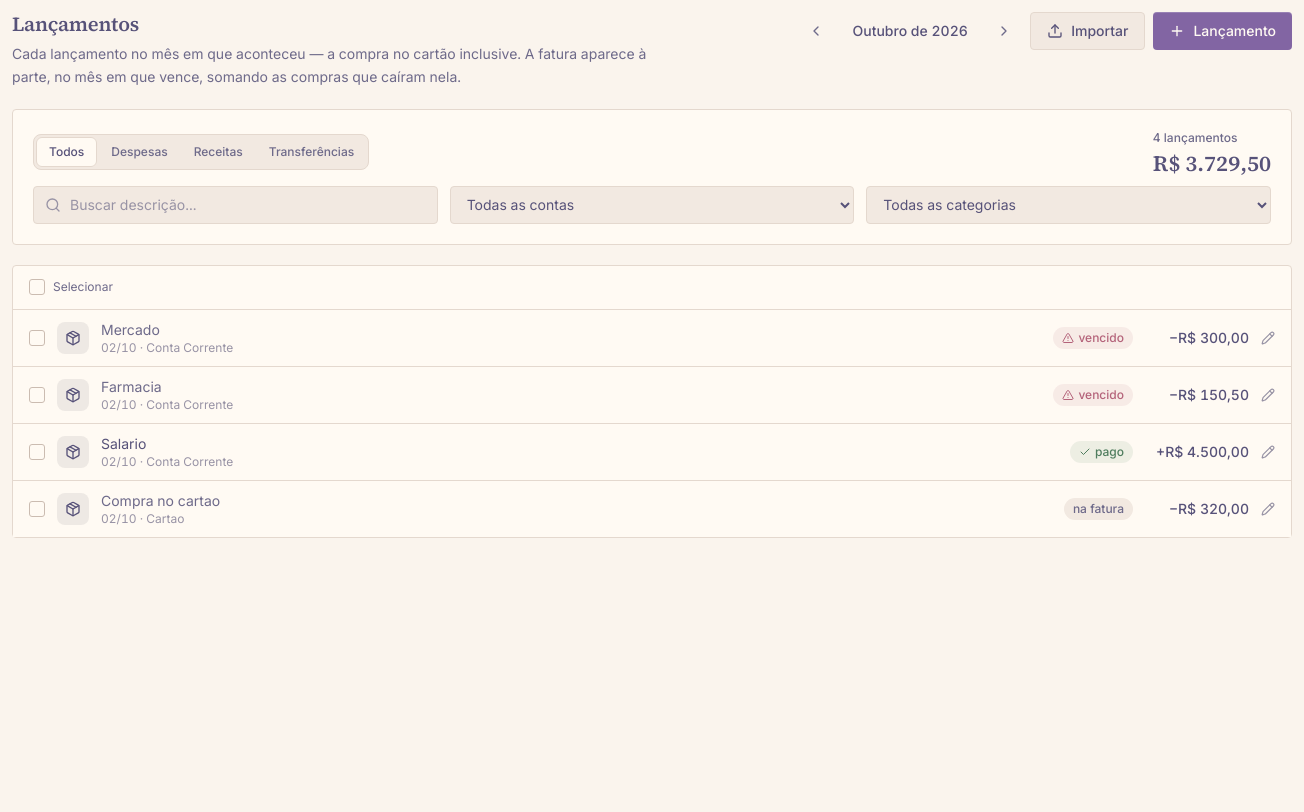
Test: seleção de lançamentos › o lote é tudo ou nada: com um item sumido, nenhum é gravado e a seleção fica
Click the checkbox named "Selecionar Mercado, " at point(37, 338), box x1=29 y1=330 x2=45 y2=346
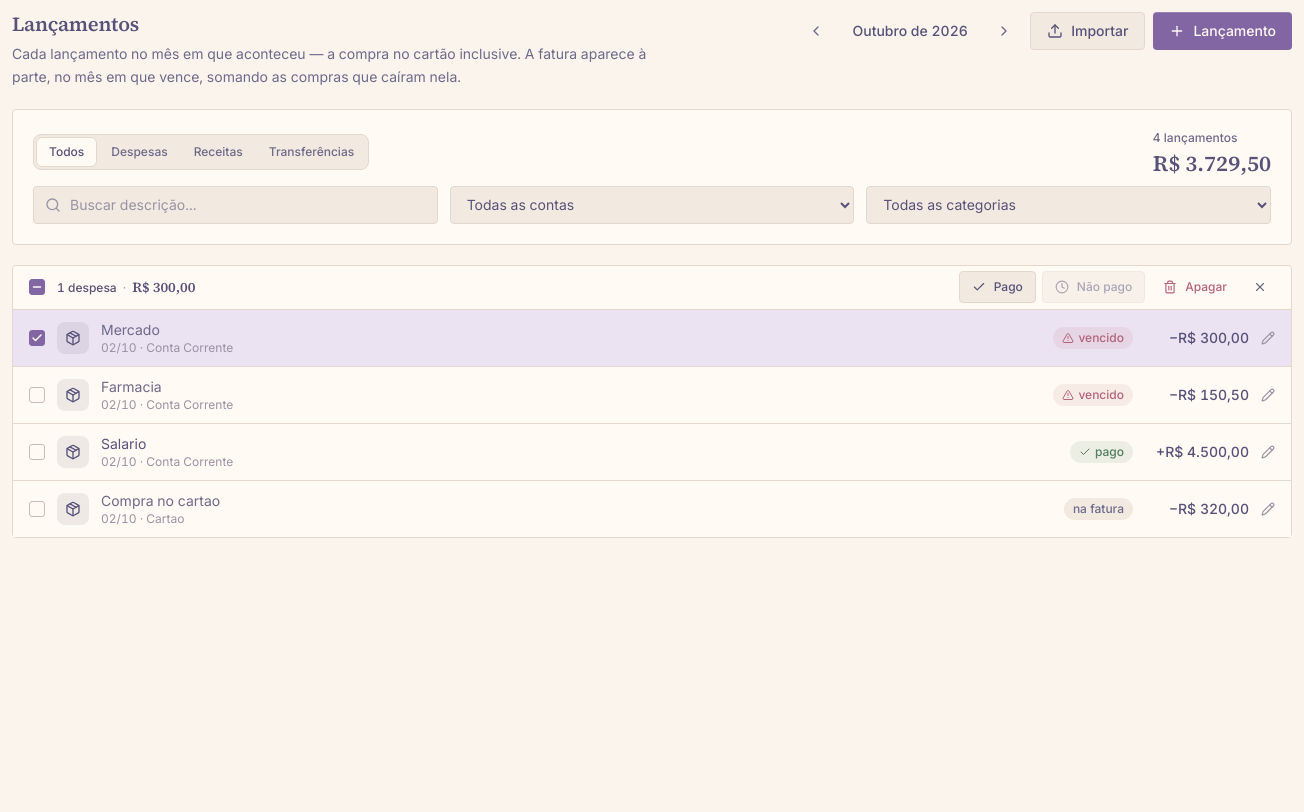
Click the checkbox named "Selecionar Farmacia, 02/10, R$ 150,50" at point(37, 394), box x1=29 y1=386 x2=45 y2=402
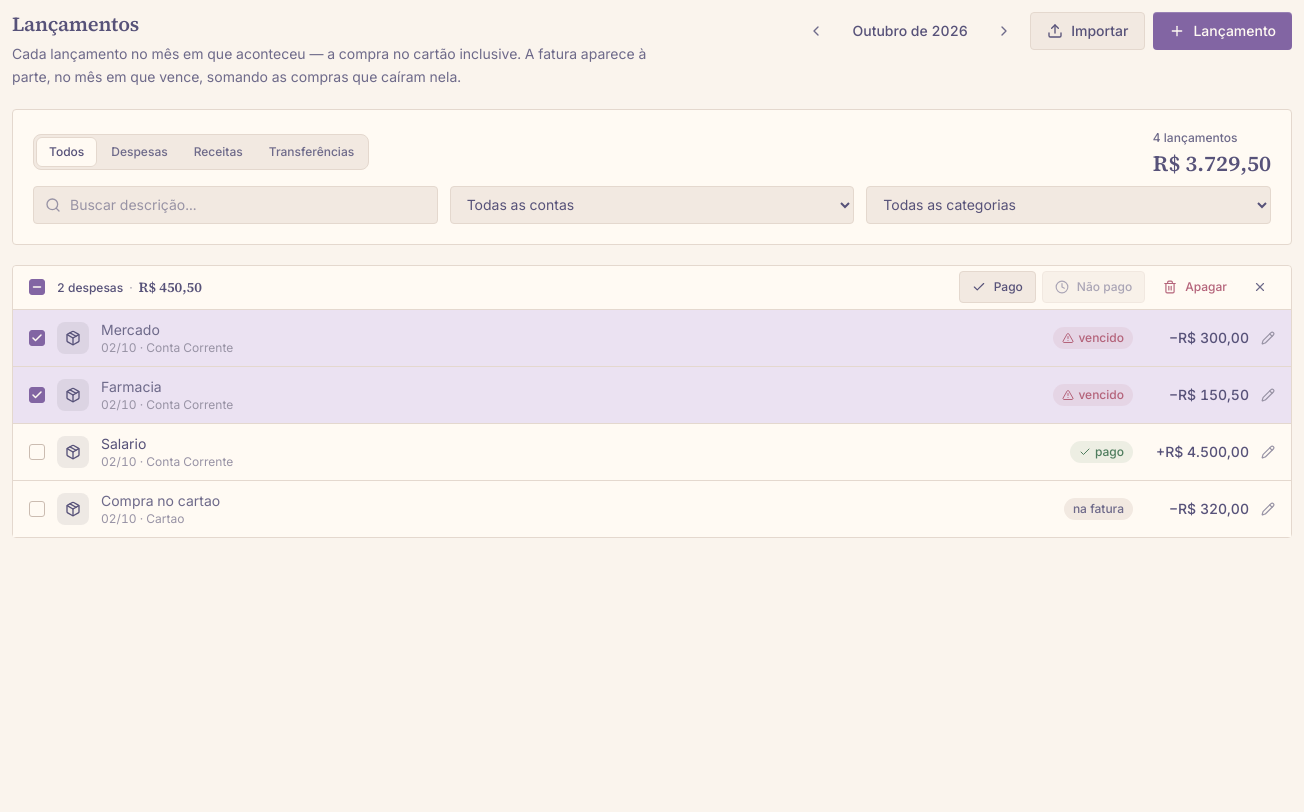
Click the button with aria-label "Marcar como pago" at point(997, 287), box x1=959 y1=271 x2=1036 y2=303
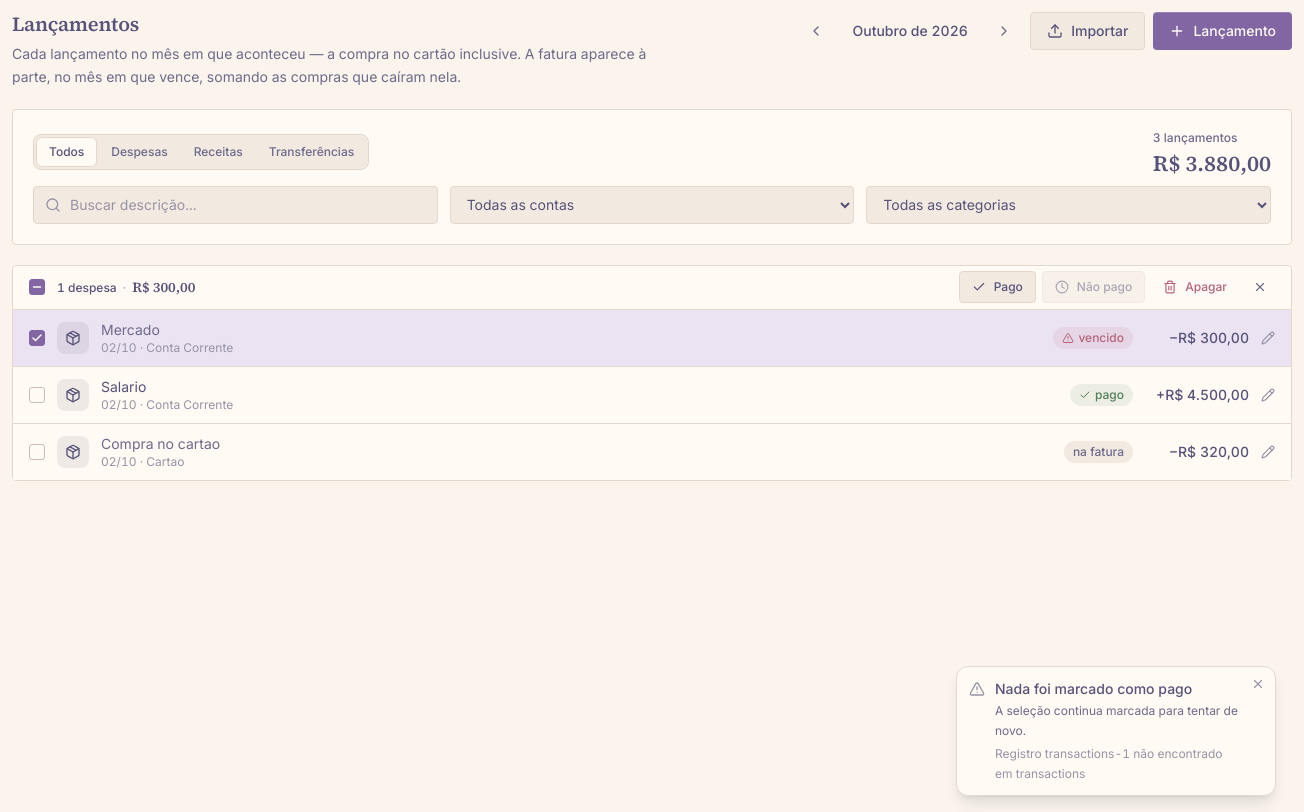
expect the text "Nada foi marcado como pago" is shown: met, box x1=995 y1=680 x2=1192 y2=697
expect the text "Registro transactions-1 não encontrado em transactions" is shown: met, box x1=995 y1=744 x2=1241 y2=783
expect the text "Farmacia" is gone: met
